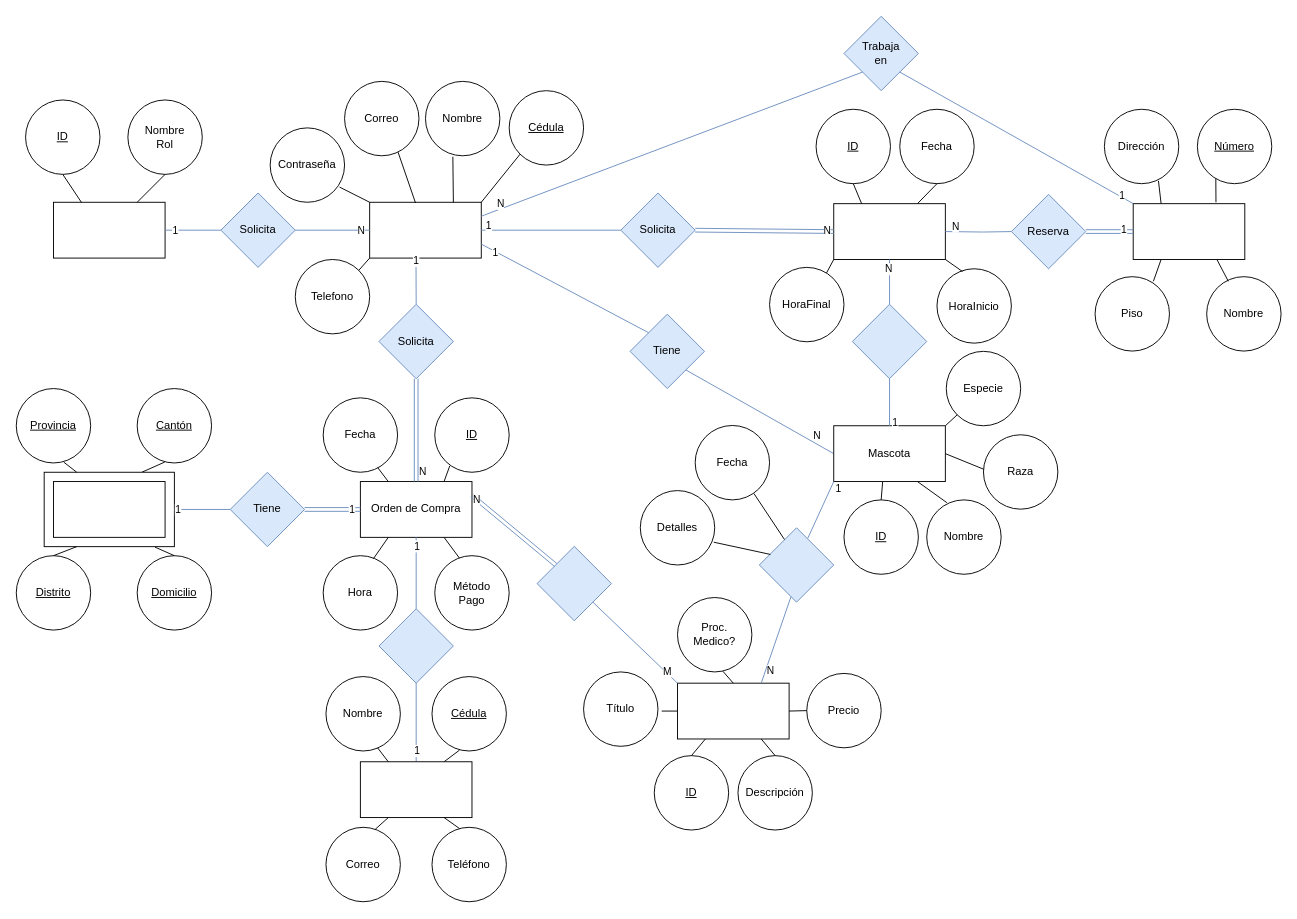
Image size: 1297x919. Some labels were removed from this diagram. Here are the shapes that lost their labels. From the top down, the centre of each, then its label:
At pixel 109 229: "Roles de Usuario".
At pixel 425 229: "Usuario".
At pixel 889 231: "Cita Médica".
At pixel 1188 231: "Veterinaria".
At pixel 889 341: "Para".
At pixel 109 509: "Dirección Entrega".
At pixel 573 583: "Compra".
At pixel 796 564: "Se le realizan".
At pixel 415 645: "Almacena".
At pixel 733 710: "Tratamientos y Productos".
At pixel 415 789: "Usuario sin Registrar".
